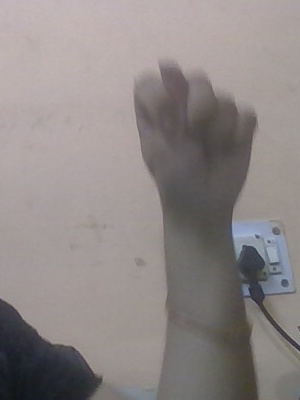T: (126, 52, 265, 211)
